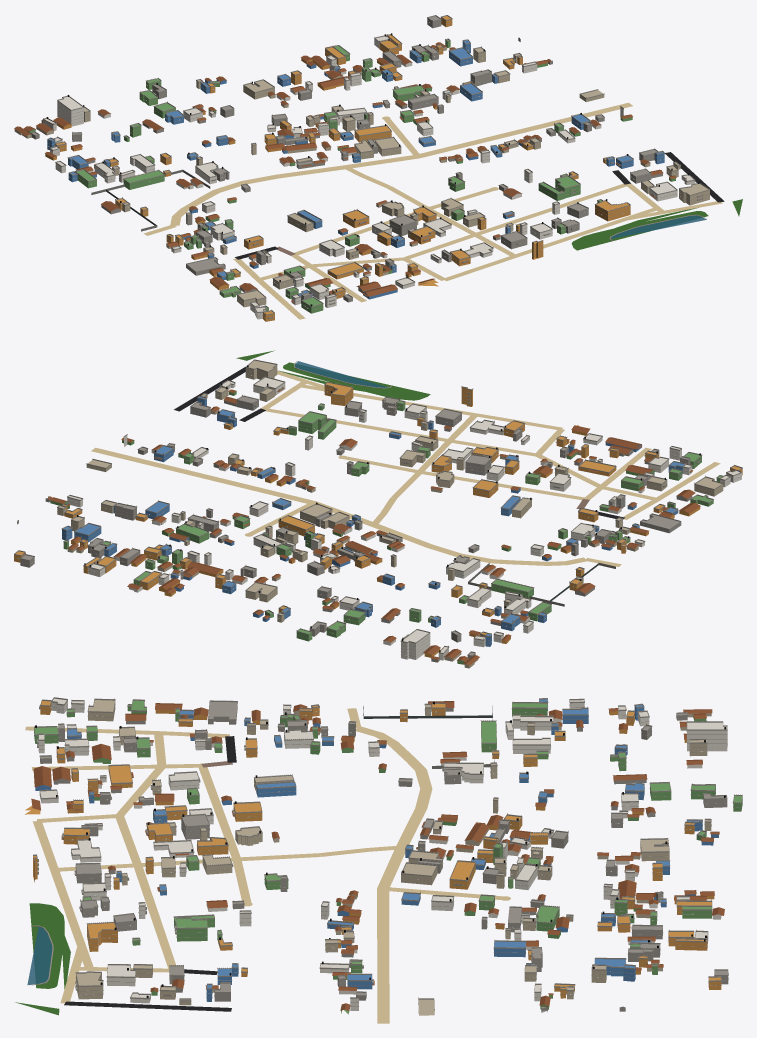
Rendered from zone_t-7_2.glb.
3 views of the same model, one above another, from view 1: azimuth 30°, elevation 25°; view 2: azimuth 150°, elevation 25°; view 3: azimuth 270°, elevation 25° (orthographic). The views are drawn at different scales.
Parts seen in each view (by area): view 1: parapet_t-7_2, bld_peinture_blanc_t-7_2-col, bld_peinture_ocre_t-7_2-col, bld_beton_t-7_2-col, toit_tole_t-7_2, bld_peinture_ecaillee_t-7_2-col, route_residential_terre_t-7_2, bld_peinture_vert_t-7_2-col, bld_peinture_bleu_t-7_2-col, route_tertiary_terre_t-7_2, bandeau_t-7_2, zone_humide_t-7_2 (+2 smaller); view 2: parapet_t-7_2, bld_peinture_blanc_t-7_2-col, bld_peinture_ocre_t-7_2-col, toit_tole_t-7_2, bld_beton_t-7_2-col, bld_peinture_ecaillee_t-7_2-col, bld_peinture_vert_t-7_2-col, route_residential_terre_t-7_2, bld_peinture_bleu_t-7_2-col, route_tertiary_terre_t-7_2, bandeau_t-7_2, zone_humide_t-7_2 (+2 smaller); view 3: parapet_t-7_2, bld_peinture_blanc_t-7_2-col, bld_peinture_ocre_t-7_2-col, toit_tole_t-7_2, bld_beton_t-7_2-col, route_residential_terre_t-7_2, bld_peinture_ecaillee_t-7_2-col, bld_peinture_vert_t-7_2-col, bld_peinture_bleu_t-7_2-col, route_tertiary_terre_t-7_2, bandeau_t-7_2, zone_humide_t-7_2 (+2 smaller).
Boxes of the visible parts, left/top/right/bottom form: parapet_t-7_2: left=30, top=15, right=709, bottom=315; bld_peinture_blanc_t-7_2-col: left=43, top=36, right=695, bottom=319; bld_peinture_ocre_t-7_2-col: left=45, top=16, right=630, bottom=321; bld_beton_t-7_2-col: left=31, top=16, right=662, bottom=302; toit_tole_t-7_2: left=14, top=42, right=676, bottom=296; bld_peinture_ecaillee_t-7_2-col: left=14, top=47, right=709, bottom=307; route_residential_terre_t-7_2: left=143, top=116, right=722, bottom=319; bld_peinture_vert_t-7_2-col: left=25, top=39, right=675, bottom=313; bld_peinture_bleu_t-7_2-col: left=47, top=40, right=664, bottom=303; route_tertiary_terre_t-7_2: left=170, top=102, right=632, bottom=225; bandeau_t-7_2: left=43, top=21, right=709, bottom=318; zone_humide_t-7_2: left=571, top=199, right=742, bottom=250; parapet_t-7_2: left=14, top=359, right=742, bottom=656; bld_peinture_blanc_t-7_2-col: left=67, top=377, right=741, bottom=660; bld_peinture_ocre_t-7_2-col: left=14, top=382, right=742, bottom=657; toit_tole_t-7_2: left=47, top=389, right=700, bottom=665; bld_beton_t-7_2-col: left=17, top=396, right=692, bottom=662; bld_peinture_ecaillee_t-7_2-col: left=57, top=360, right=723, bottom=668; bld_peinture_vert_t-7_2-col: left=50, top=391, right=721, bottom=664; route_residential_terre_t-7_2: left=245, top=370, right=720, bottom=566; bld_peinture_bleu_t-7_2-col: left=62, top=397, right=684, bottom=646; route_tertiary_terre_t-7_2: left=91, top=447, right=587, bottom=565; bandeau_t-7_2: left=14, top=368, right=741, bottom=657; zone_humide_t-7_2: left=236, top=350, right=430, bottom=400; parapet_t-7_2: left=33, top=697, right=742, bottom=1010; bld_peinture_blanc_t-7_2-col: left=38, top=698, right=727, bottom=1010; bld_peinture_ocre_t-7_2-col: left=25, top=701, right=721, bottom=998; toit_tole_t-7_2: left=31, top=701, right=724, bottom=1010; bld_beton_t-7_2-col: left=40, top=701, right=728, bottom=1012; route_residential_terre_t-7_2: left=25, top=708, right=510, bottom=1003; bld_peinture_ecaillee_t-7_2-col: left=76, top=700, right=711, bottom=1015; bld_peinture_vert_t-7_2-col: left=34, top=700, right=742, bottom=1014; bld_peinture_bleu_t-7_2-col: left=35, top=699, right=718, bottom=1001; route_tertiary_terre_t-7_2: left=356, top=726, right=432, bottom=1023; bandeau_t-7_2: left=33, top=704, right=742, bottom=1006; zone_humide_t-7_2: left=15, top=903, right=70, bottom=1015.
Size of the model in its own units: 496 by 17 by 479.
